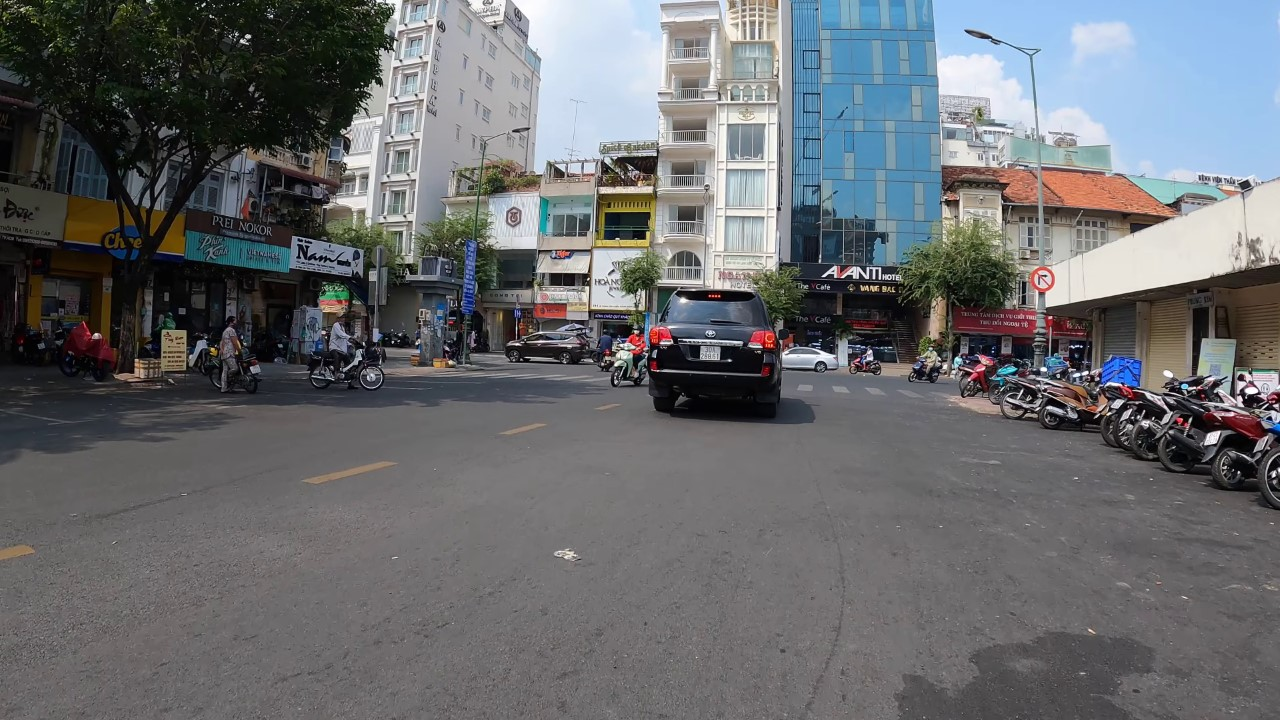cam_re_phai: (1029, 264, 1055, 293)
